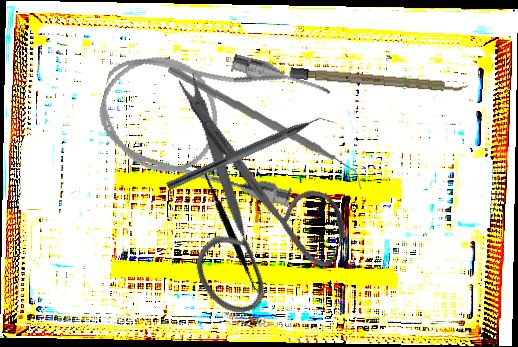Cannula: (87, 25, 334, 211)
Chopper: (167, 57, 363, 200), (165, 106, 339, 203)
Iris Scissors: (98, 65, 382, 344)
Scalpel Handle: (288, 67, 469, 94)
Spatula Surgical: (152, 163, 305, 298)
